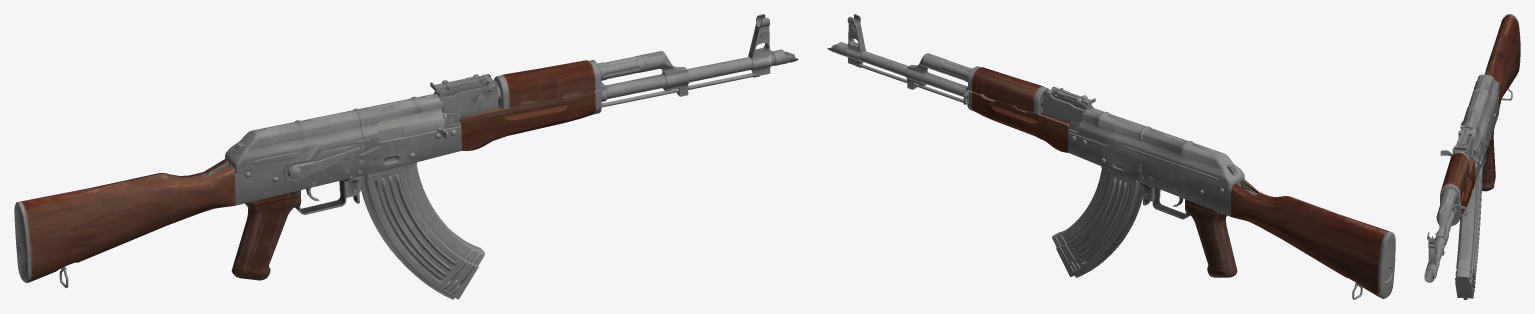
The model's file is rifle.glb.
3 renders of one model, left to right at view 1: azimuth 30°, elevation 25°; view 2: azimuth 150°, elevation 25°; view 3: azimuth 270°, elevation 25°, orthographic. The views are drawn at different scales.
Visible parts, largest first — view 1: hang_low_Standard_0; view 2: hang_low_Standard_0; view 3: hang_low_Standard_0.
Part boxes in pixels (left/top/right/bottom): hang_low_Standard_0: left=14, top=14, right=798, bottom=299; hang_low_Standard_0: left=827, top=14, right=1395, bottom=299; hang_low_Standard_0: left=1424, top=14, right=1520, bottom=299.
Size of the model in its own units: 1580 by 473 by 236.
Materials: 1 (1 with a texture image).
